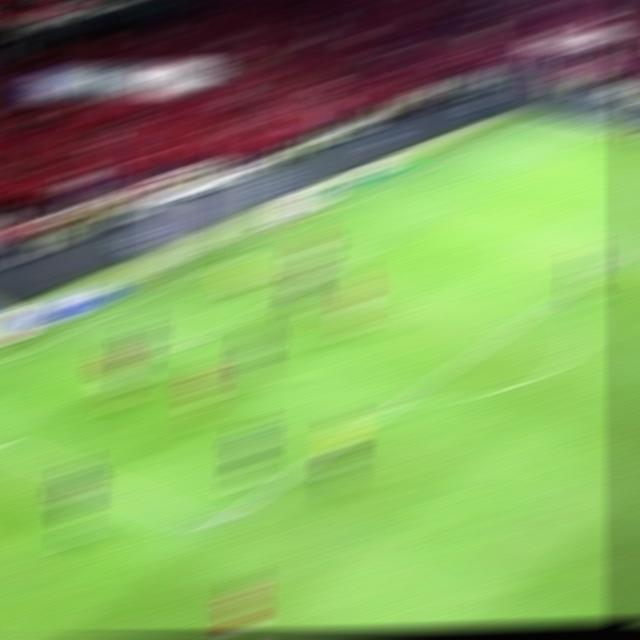bigarea_bottom_inner: (193, 515, 230, 540)
bigarea_top_outter: (406, 164, 433, 172)
bottom_arc_area_intersection: (386, 392, 417, 408)
corner: (514, 116, 542, 119)
smallarea_bottom_inner: (163, 340, 196, 357)
smallarea_bottom_outter: (82, 315, 111, 324)
smallarea_top_inner: (377, 232, 405, 241)
smallarea_top_outter: (304, 213, 332, 222)
top_arc_area_intersection: (547, 289, 574, 303)
